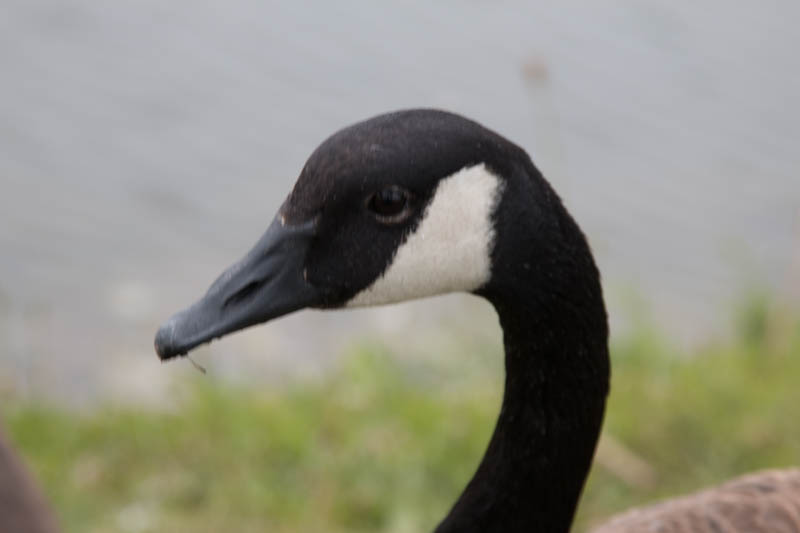goose-head: (153, 108, 551, 362)
